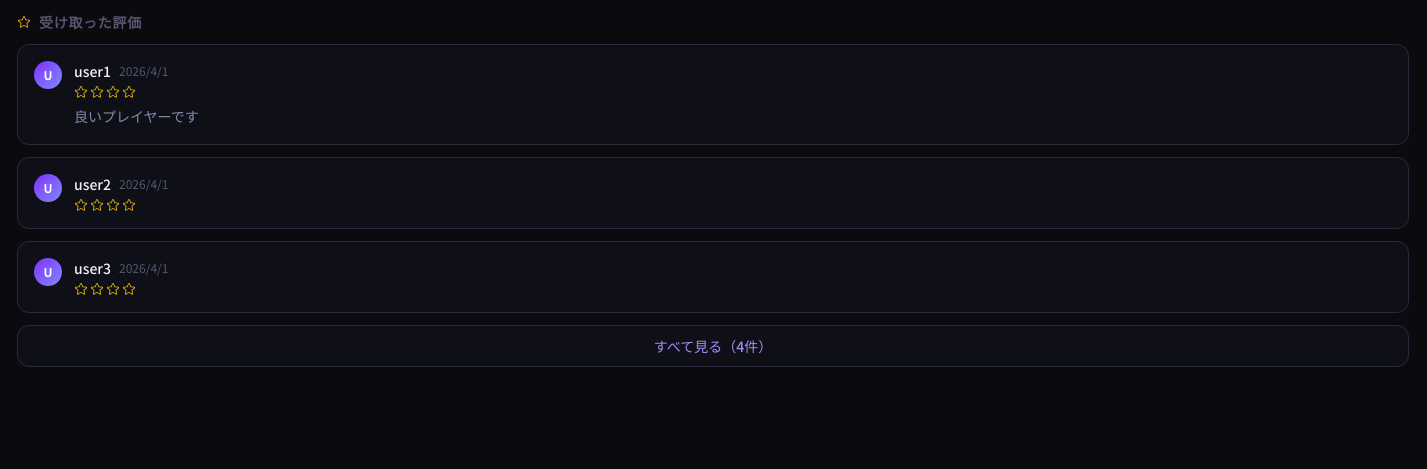
Test: ReceivedRatingsList › 「折りたたむ」クリックで3件に戻る
Click the button "すべて見る（4件）": (713, 346) left=17, top=325, right=1409, bottom=367
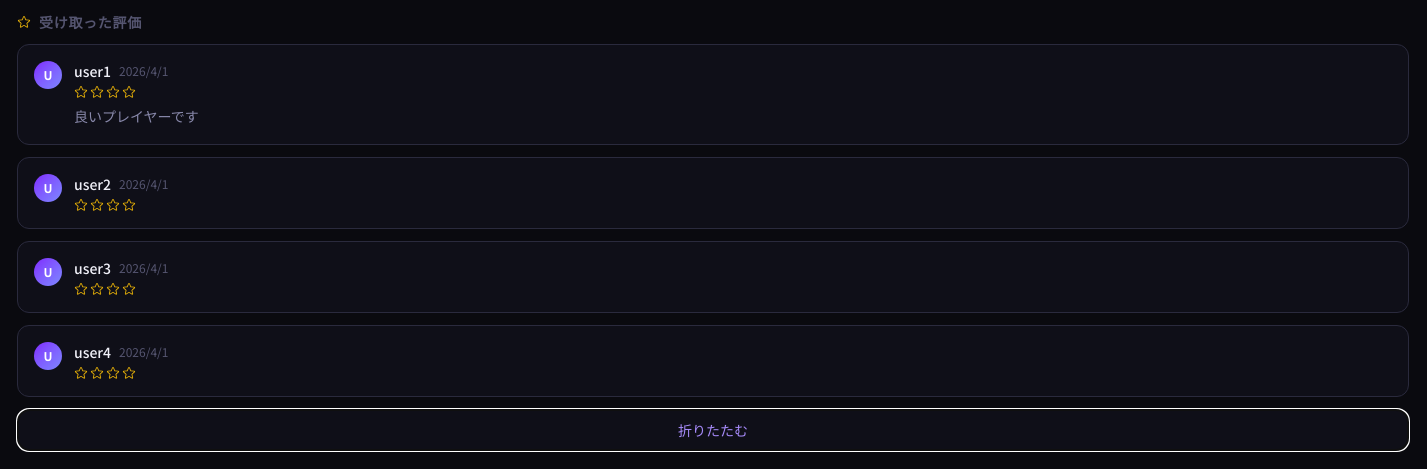
Click the button "折りたたむ": (713, 430) left=17, top=409, right=1409, bottom=451
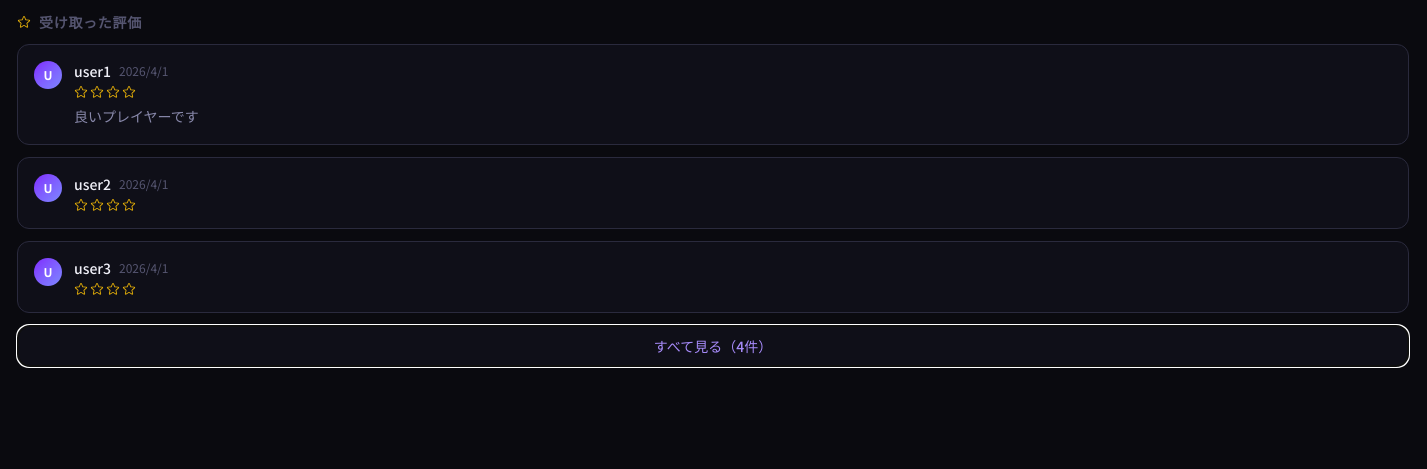
expect the text "user4" is gone: met
expect the button "すべて見る（4件）" is shown: met, box left=17, top=325, right=1409, bottom=367
